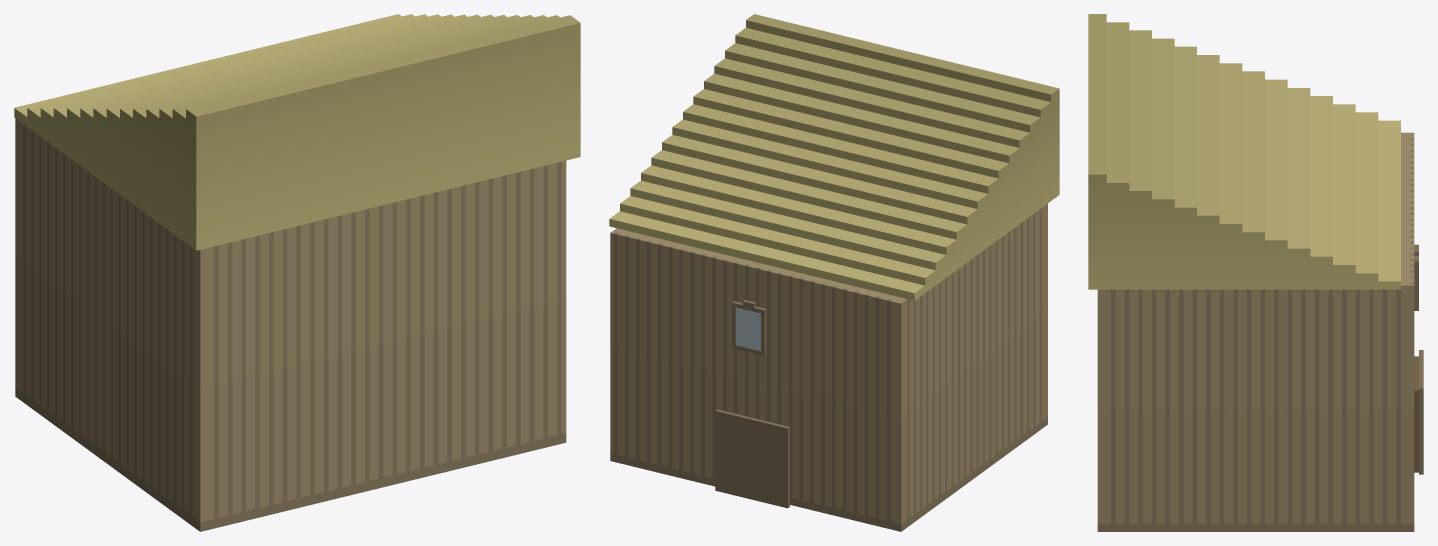
The model's file is granero_03.glb.
3 renders of one model, left to right at view 1: azimuth 30°, elevation 25°; view 2: azimuth 150°, elevation 25°; view 3: azimuth 270°, elevation 25°, orthographic. The views are drawn at different scales.
Visible parts, largest first — view 1: granero_03; view 2: granero_03; view 3: granero_03.
Boxes of the visible parts, x1,y1,x2,y2 form: granero_03: (14, 14, 580, 531); granero_03: (609, 14, 1059, 531); granero_03: (1088, 14, 1423, 531).
Size of the model in its own units: 8.4 by 8.8 by 7.4.
